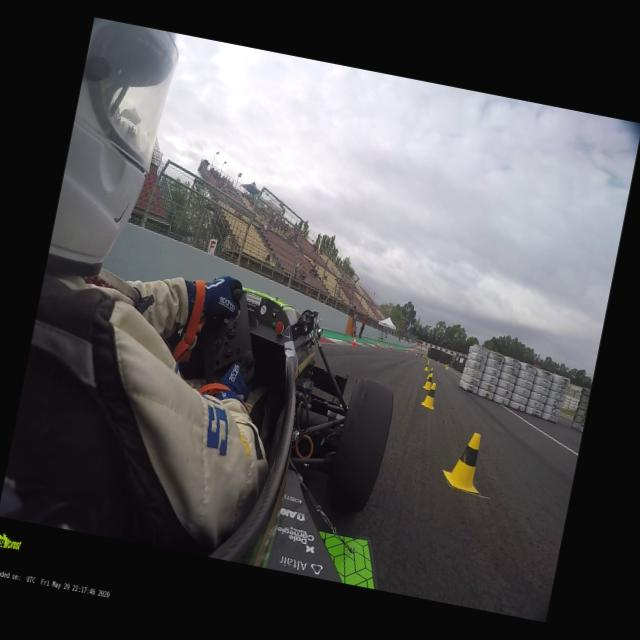orange_cone: (350, 336, 357, 348), (375, 342, 380, 350), (389, 344, 393, 350), (405, 350, 408, 354)
yellow_cone: (440, 428, 490, 495), (418, 381, 439, 411), (422, 372, 434, 392), (426, 367, 435, 380), (423, 362, 430, 372), (445, 364, 449, 370)
